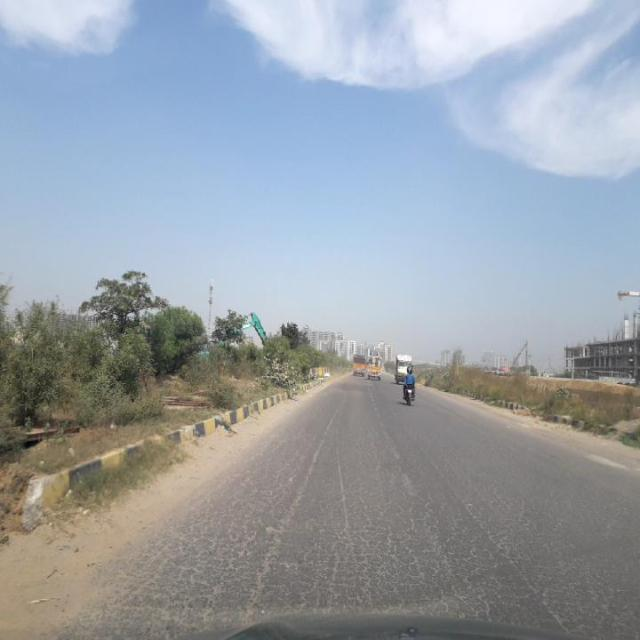D00: (400, 423, 561, 627), (252, 407, 336, 606)
D20: (133, 464, 639, 632)
